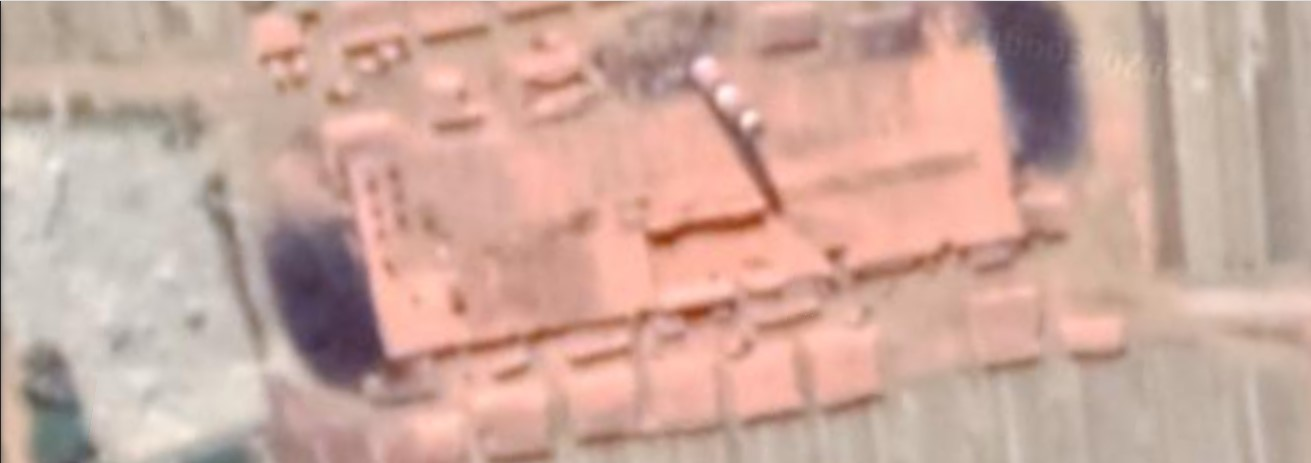kiln: (434, 1, 997, 437)
